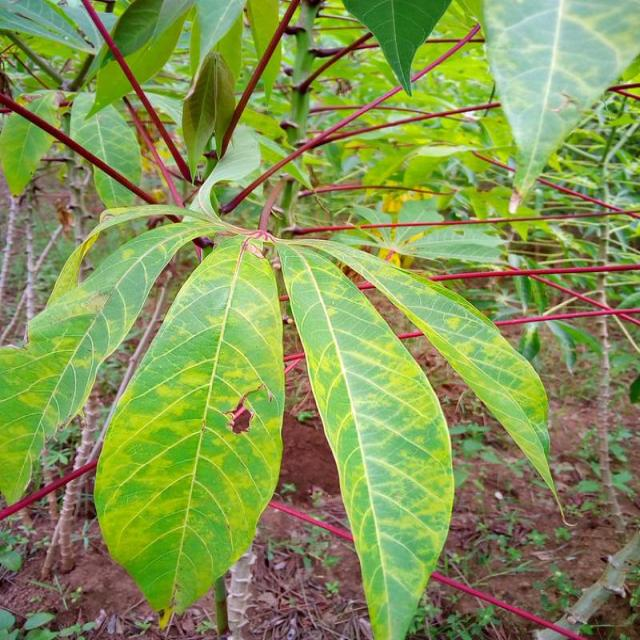cassava leaf: (283, 235, 572, 528), (92, 232, 286, 625), (274, 237, 455, 638), (480, 0, 638, 207), (341, 0, 452, 97)
